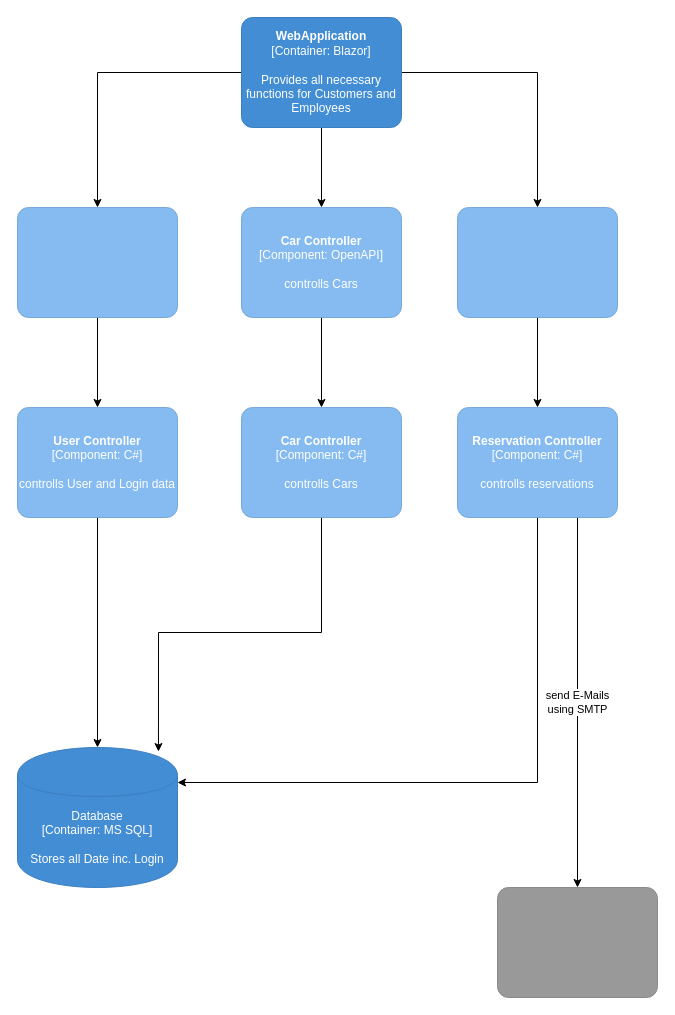
The diagram is 675 pixels wide and 1015 high, and some of its shapes have lost their labels. Each missing label, with the centre of its shape:
E-Mail System [Software System] SendGrid: (577,942)
Reservation Controller [Component: OpenAPI] controlls reservations: (537,262)
User Controller [Component: OpenAPI] controlls User and Login data: (97,262)
